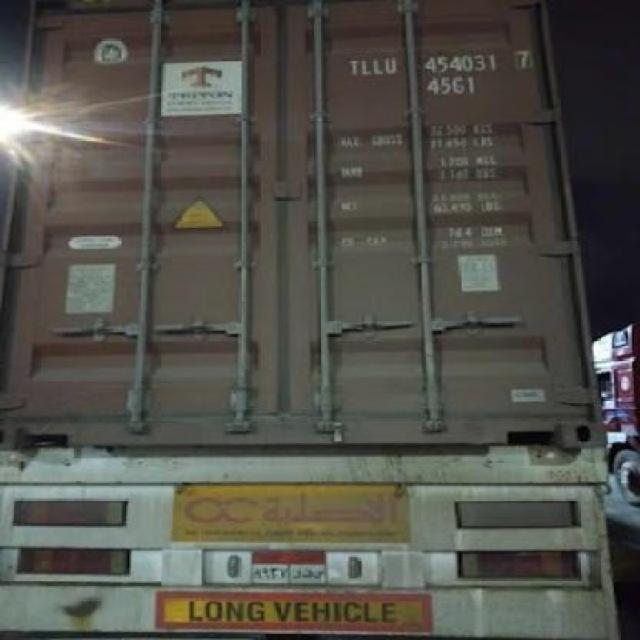ISO: (426, 75, 476, 96)
container_number: (352, 48, 524, 75)
